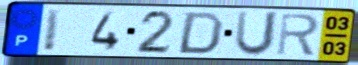2: (135, 9, 178, 55)
4: (88, 11, 122, 52)
D: (174, 10, 226, 55)
I: (41, 8, 64, 53)
R: (275, 12, 322, 57)
U: (232, 9, 282, 58)
